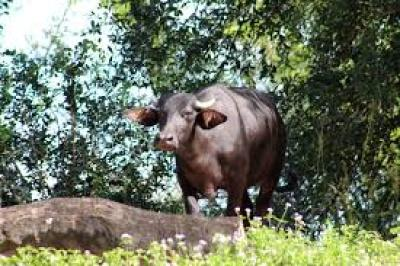buffalo: (125, 83, 283, 217)
